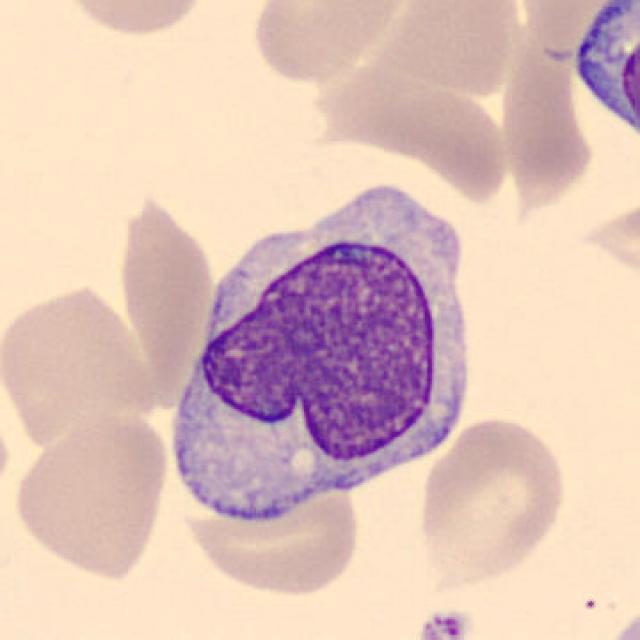Monocyte: (157, 168, 490, 526), (562, 0, 640, 152)
Platelets: (416, 606, 473, 640)
RBC: (9, 407, 172, 584), (412, 410, 572, 590), (0, 276, 158, 449), (110, 187, 220, 409), (176, 474, 364, 600), (377, 0, 526, 99), (247, 0, 414, 85), (54, 0, 212, 39)
